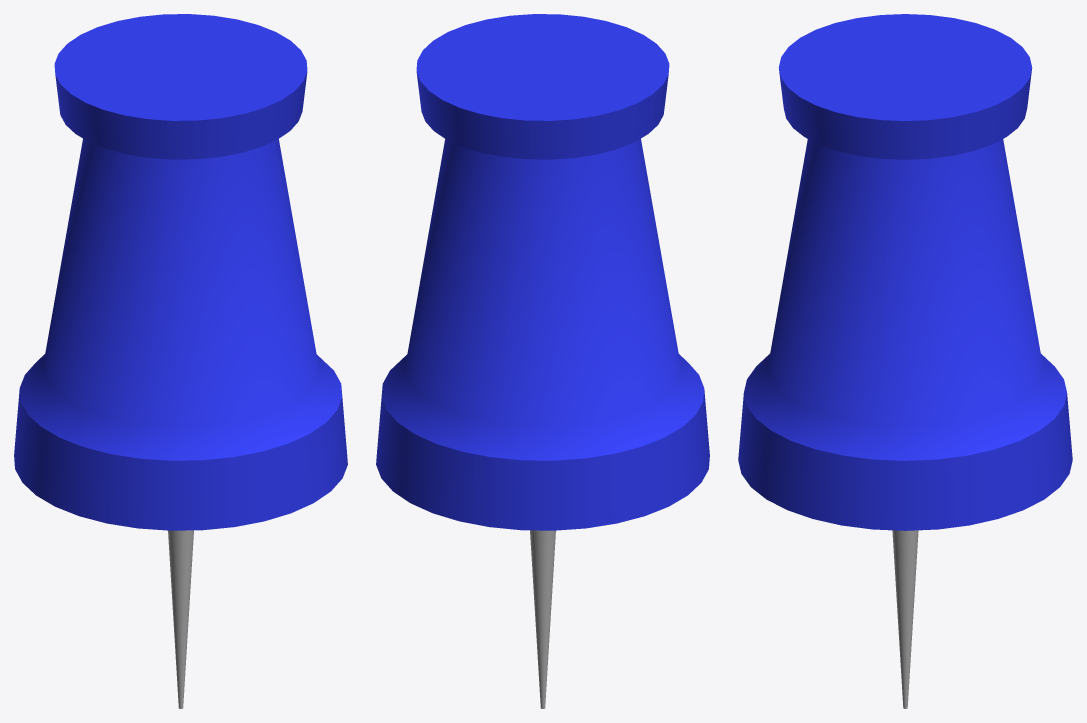
The model's file is thumbtack.obj.
The picture shows the model from 3 angles, left to right: view 1: azimuth 30°, elevation 25°; view 2: azimuth 150°, elevation 25°; view 3: azimuth 270°, elevation 25°; orthographic projection.
Visible parts, largest first — view 1: 円柱; view 2: 円柱; view 3: 円柱.
Boxes of the visible parts, box(x1,y1,x2,y2) form: 円柱: box(14, 14, 347, 708); 円柱: box(376, 14, 709, 708); 円柱: box(738, 14, 1072, 708).
Size of the model in its own units: 0.871 by 1.84 by 0.871.
2 materials, 2 textured.
